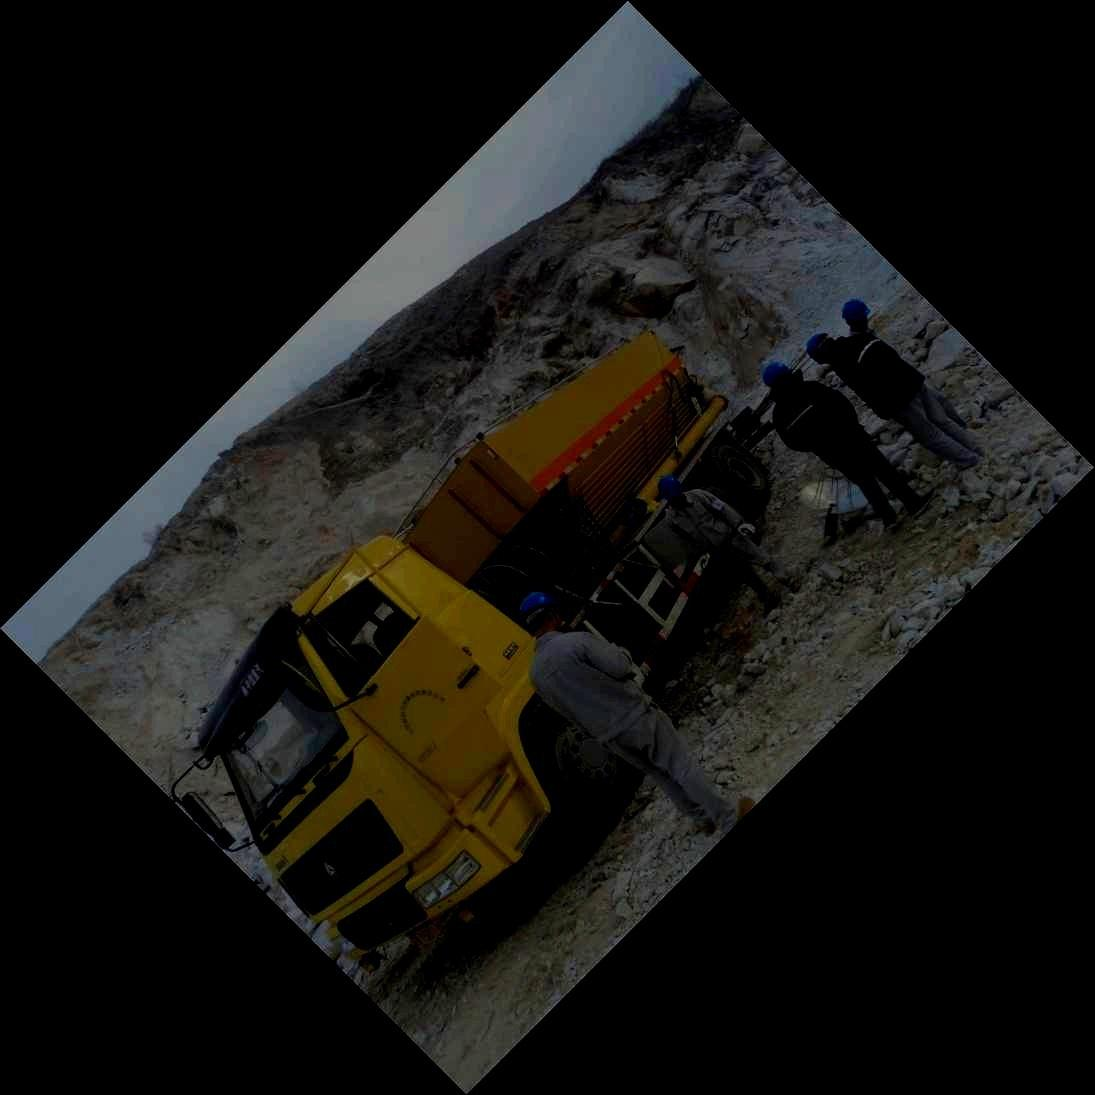helmet: (517, 592, 563, 638), (841, 297, 872, 331), (805, 332, 835, 366), (760, 361, 792, 391), (656, 475, 684, 505)
